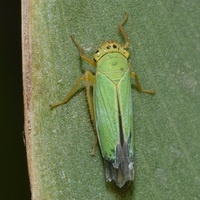insect: (49, 12, 154, 187)
